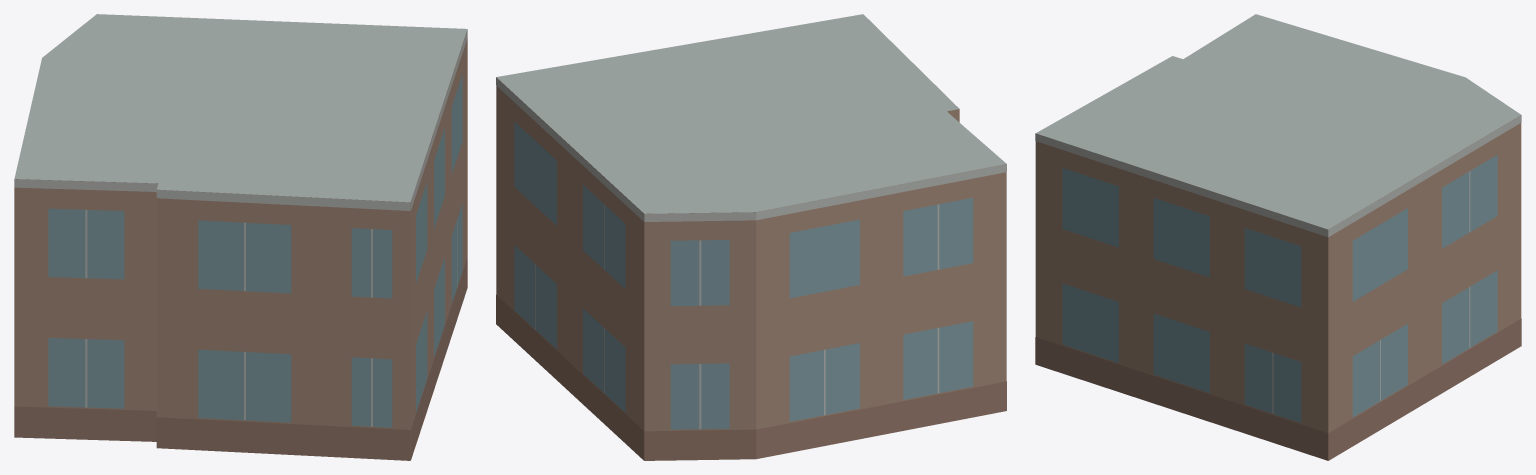
File: survey-upis-32515160.glb
3 renders of one model, left to right at view 1: azimuth 30°, elevation 25°; view 2: azimuth 150°, elevation 25°; view 3: azimuth 270°, elevation 25°, orthographic. The views are drawn at different scales.
Visible parts, largest first — view 1: survey-upis-32515160.tmp; view 2: survey-upis-32515160.tmp; view 3: survey-upis-32515160.tmp.
Boxes of the visible parts, left/top/right/bottom form: survey-upis-32515160.tmp: left=14, top=14, right=467, bottom=460; survey-upis-32515160.tmp: left=496, top=14, right=1006, bottom=460; survey-upis-32515160.tmp: left=1035, top=14, right=1521, bottom=460.
Bounding box in the file's own units: 14.6 × 7.3 × 13.91.
